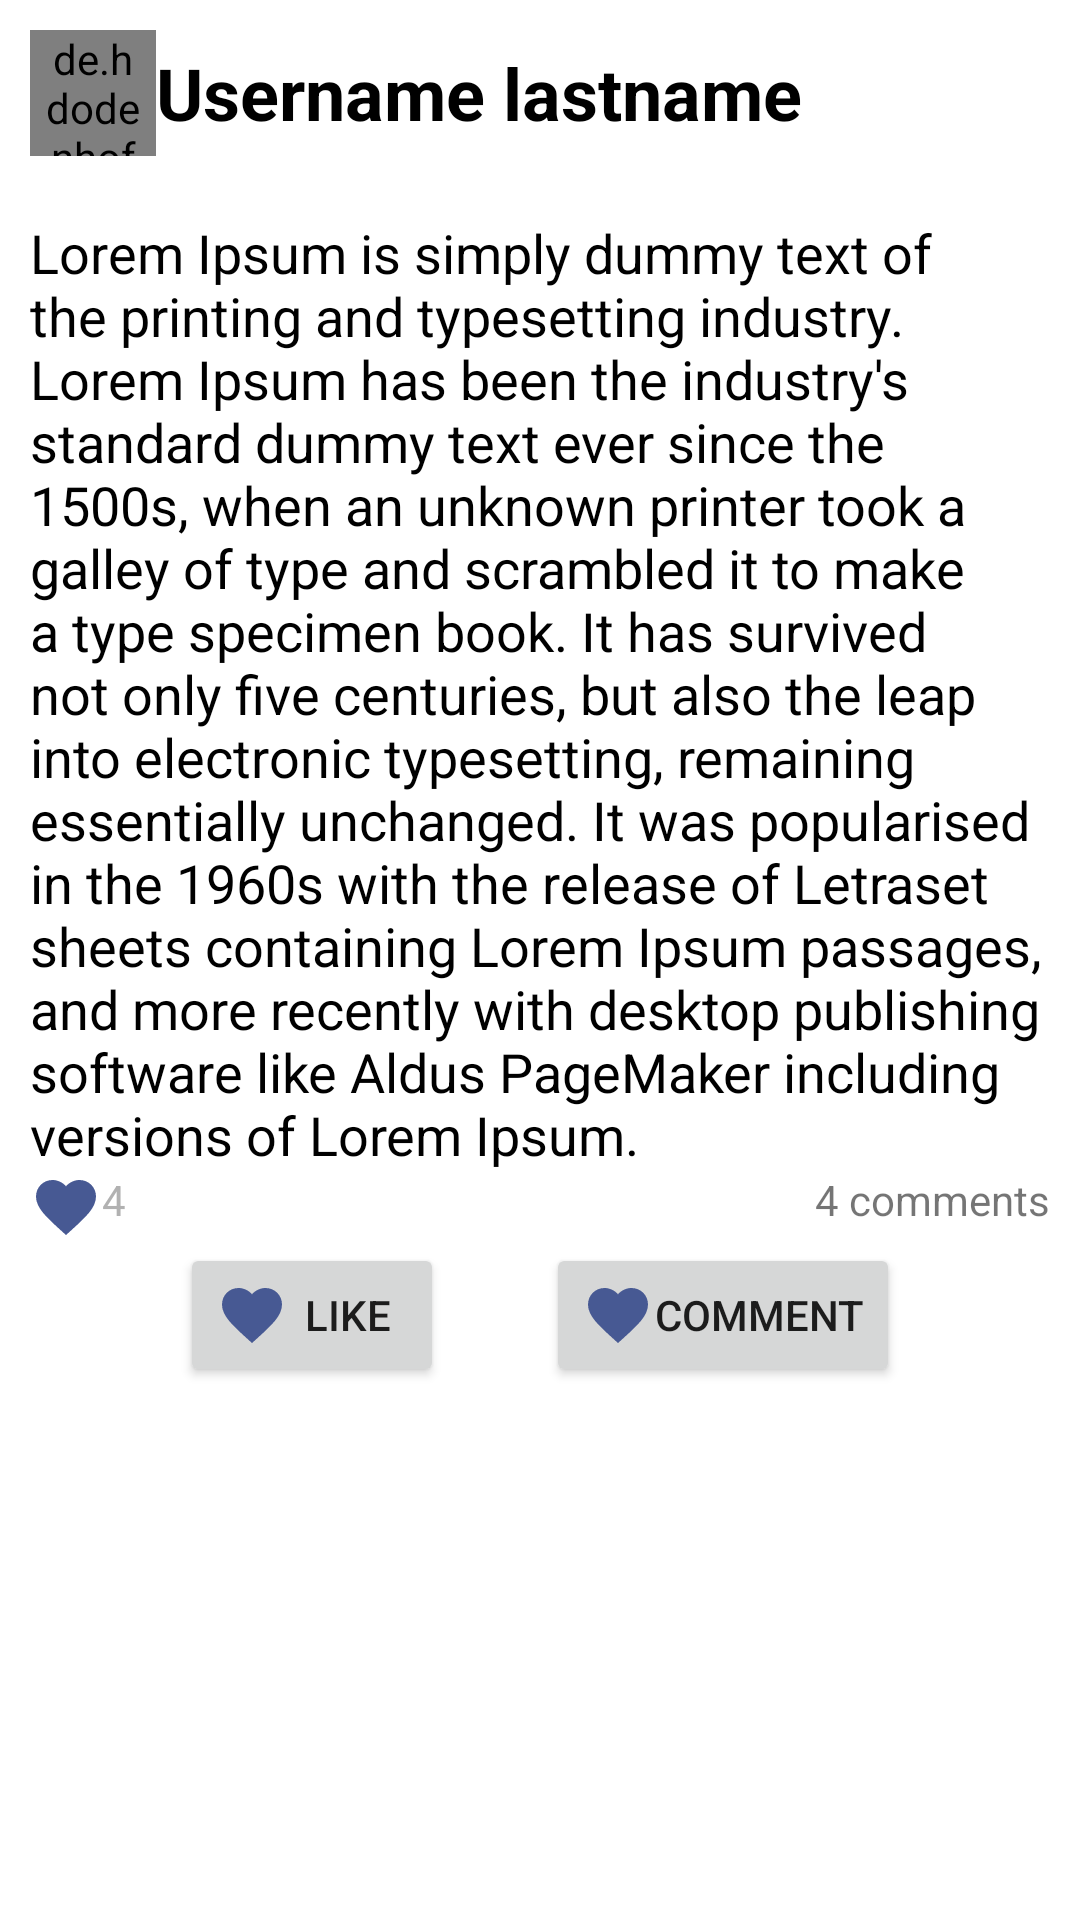

Where icons sit on this 1080 × 1920 app screen, as (x1, y1, x2, y2):
favorite: (36, 1180, 96, 1235)
